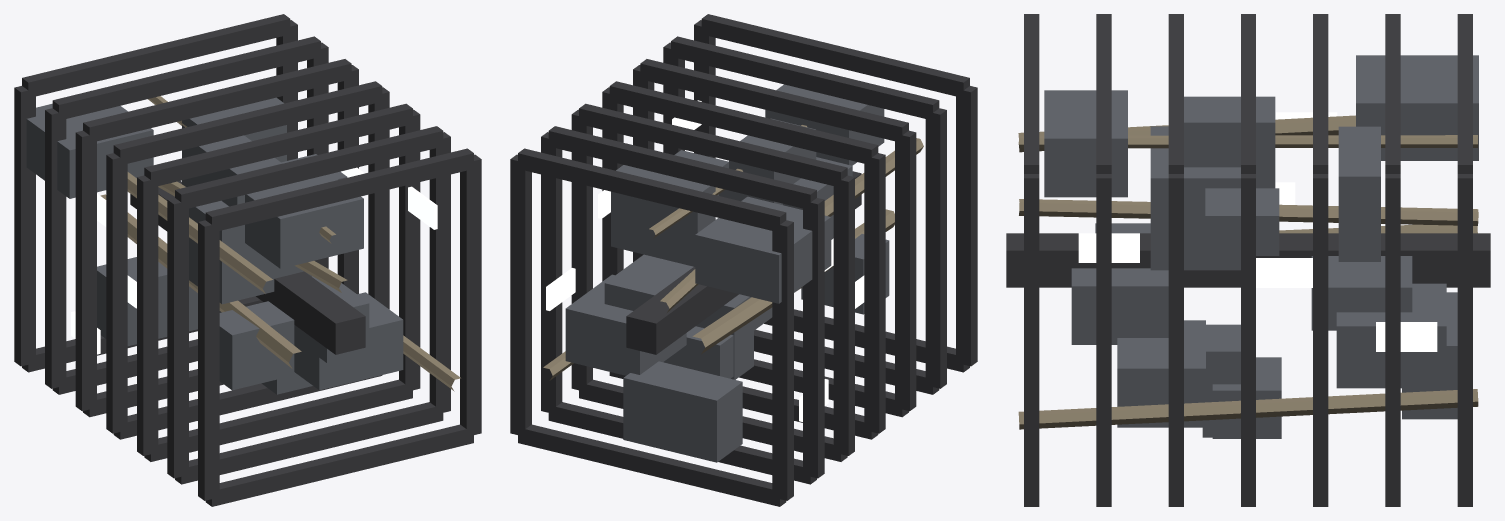
The model's file is wreck_interior.glb.
3 views of the same model, side by side, from view 1: azimuth 30°, elevation 25°; view 2: azimuth 150°, elevation 25°; view 3: azimuth 270°, elevation 25° (orthographic). The views are drawn at different scales.
Parts seen in each view (by area): view 1: interior; view 2: interior; view 3: interior.
Boxes of the visible parts, x1=… form: interior: x1=14, y1=14, x2=481, y2=506; interior: x1=510, y1=14, x2=977, y2=506; interior: x1=1006, y1=14, x2=1490, y2=506.
Size of the model in its own units: 1.48 by 1.48 by 1.9.
